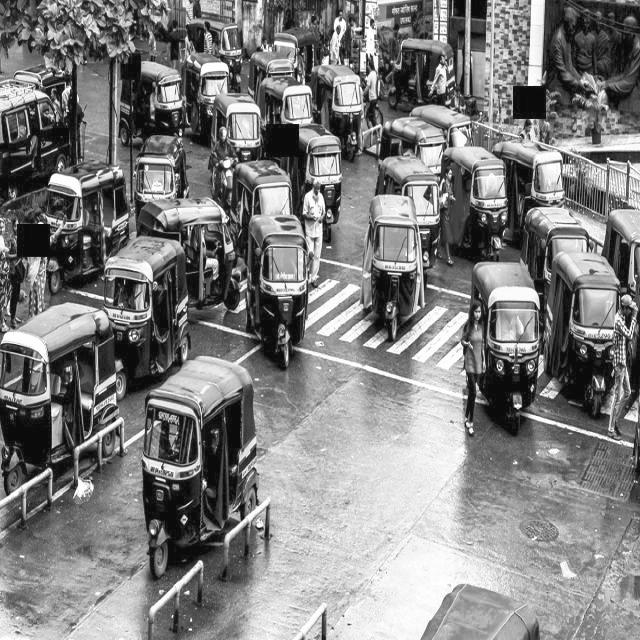Auto-Rickshaw: (137, 354, 261, 568), (1, 304, 119, 476), (549, 237, 625, 446), (470, 251, 546, 457), (95, 232, 197, 374), (245, 205, 320, 383), (38, 162, 141, 278), (364, 173, 426, 363), (493, 124, 573, 250), (373, 142, 445, 274), (438, 141, 508, 260), (385, 17, 459, 123), (524, 201, 596, 309), (280, 114, 341, 233), (404, 79, 482, 165), (374, 96, 446, 188), (119, 54, 185, 143), (308, 59, 370, 149), (136, 124, 192, 219), (226, 152, 290, 234), (212, 84, 264, 181), (180, 38, 232, 132), (259, 69, 314, 137), (249, 45, 295, 79)
